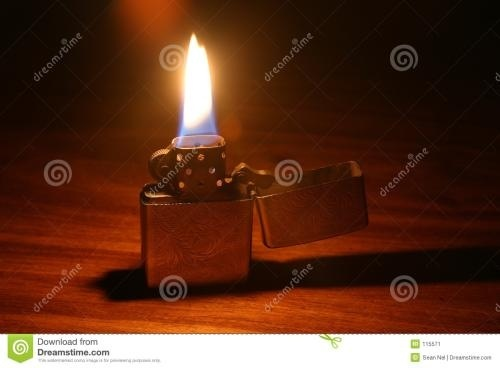fire: (176, 29, 215, 143)
